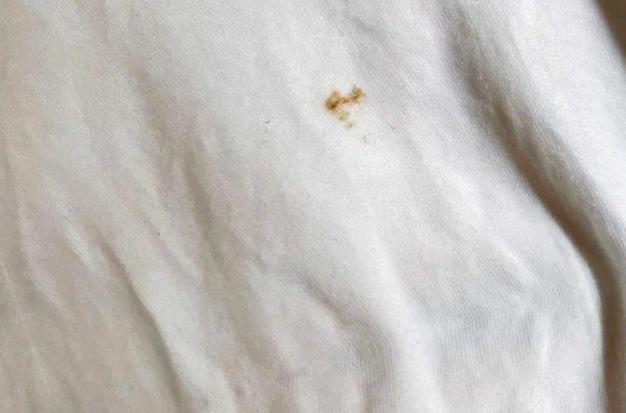stain: (322, 82, 375, 134)
